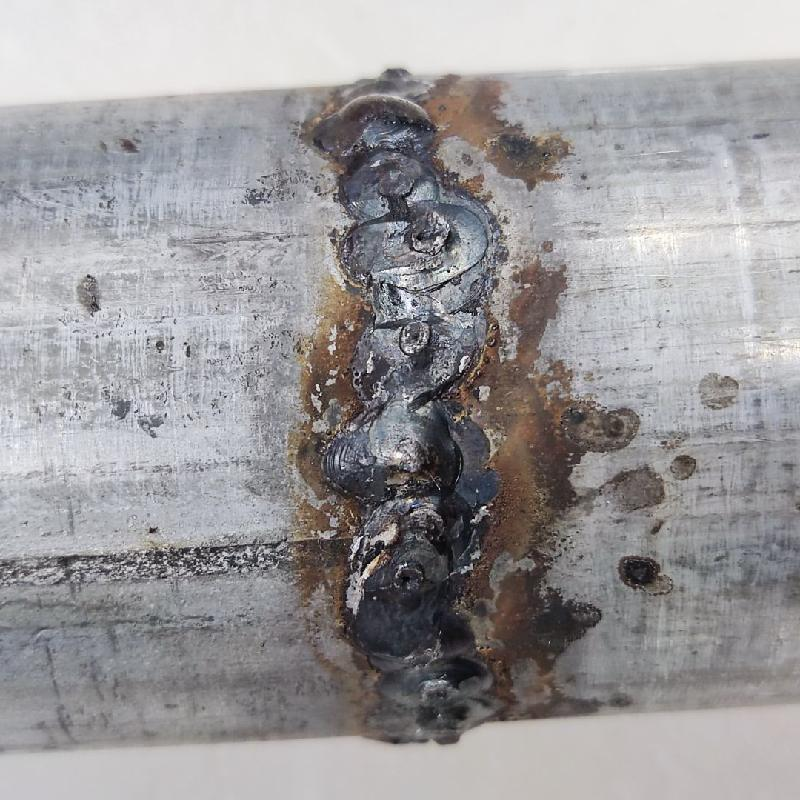Weld: (314, 90, 437, 155)
wrong_size: (341, 403, 486, 730), (332, 158, 479, 394)
